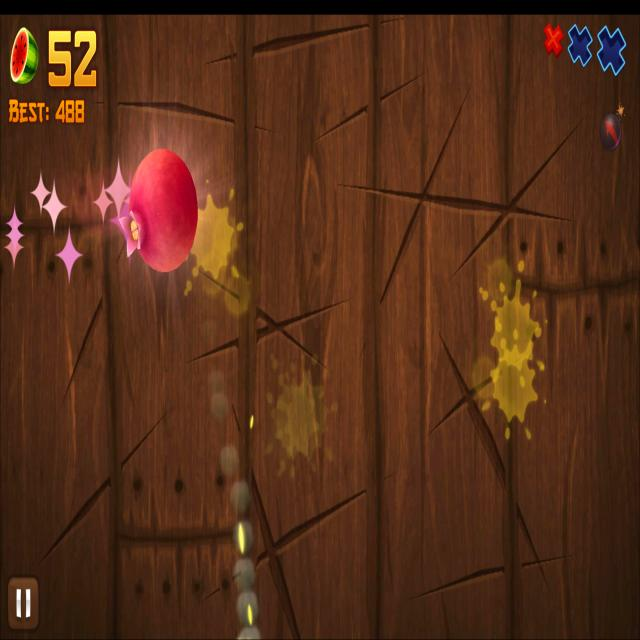fruit: (128, 149, 198, 274)
